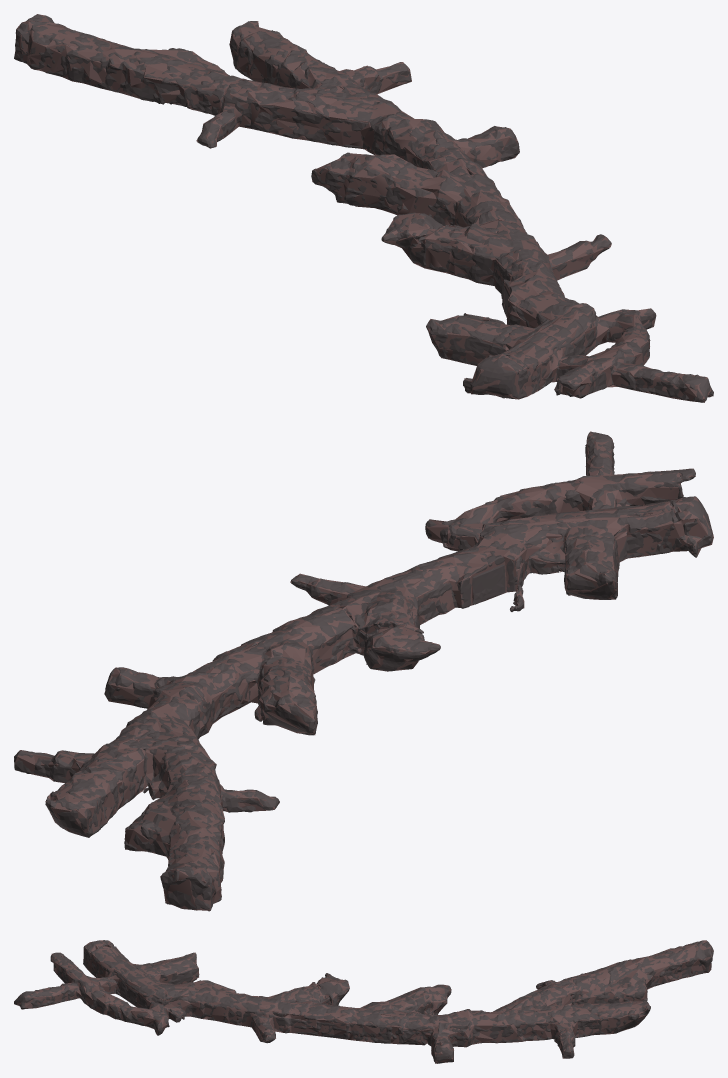
File: lowerFace0.1.fbx
The picture shows the model from 3 angles, top to bottom: view 1: azimuth 30°, elevation 25°; view 2: azimuth 150°, elevation 25°; view 3: azimuth 270°, elevation 25°; orthographic projection. The views are drawn at different scales.
Visible parts, largest first — view 1: meshlab.001, lowerFaces0.1miningSite; view 2: meshlab.001, lowerFaces0.1miningSite; view 3: meshlab.001, lowerFaces0.1miningSite.
Boxes of the visible parts, box(x1,y1,x2,y2) form: meshlab.001: box(14, 14, 713, 402); lowerFaces0.1miningSite: box(14, 14, 713, 402); meshlab.001: box(14, 432, 712, 911); lowerFaces0.1miningSite: box(14, 431, 713, 910); meshlab.001: box(14, 940, 713, 1063); lowerFaces0.1miningSite: box(14, 940, 713, 1063).
Bounding box in the file's own units: 7517 × 1401 × 23040.
